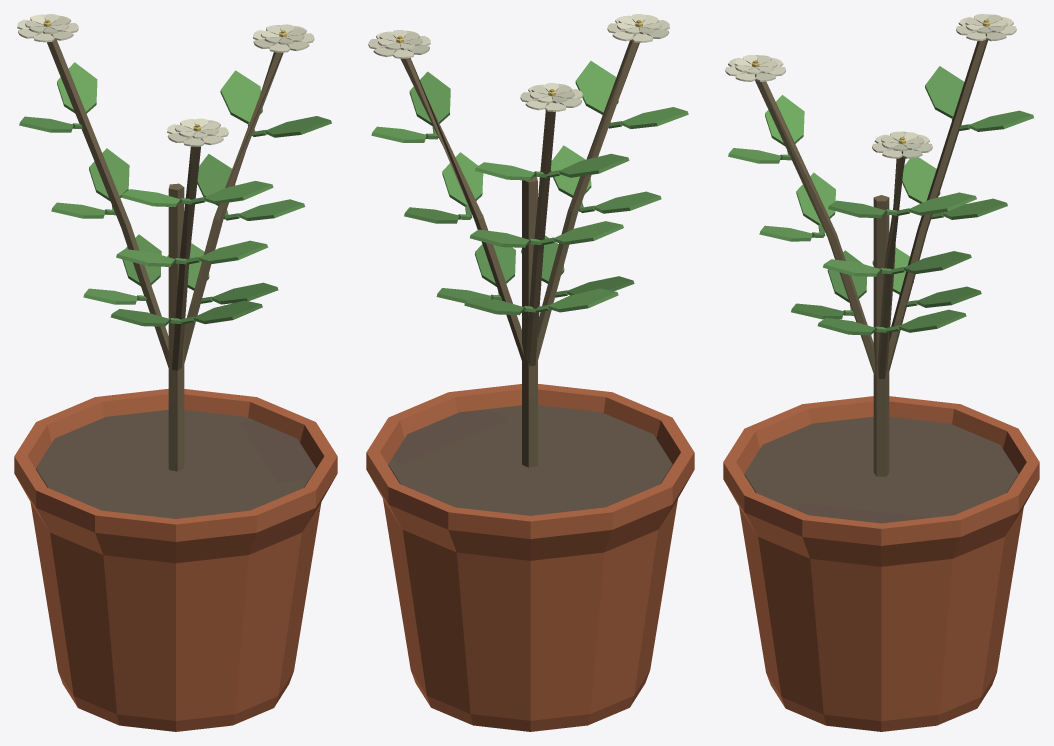
File: jasmine.glb
The picture shows the model from 3 angles, left to right: view 1: azimuth 30°, elevation 25°; view 2: azimuth 150°, elevation 25°; view 3: azimuth 270°, elevation 25°; orthographic projection. The views are drawn at different scales.
Visible parts, largest first — view 1: jasmine/review-terra-vessel, jasmine/review-rooted-soil, jasmine/petiole-001, jasmine/stem-031, jasmine/stem-002, jasmine/stem-060, jasmine/leaf-014, jasmine/leaf-041, jasmine/leaf-037, jasmine/leaf-010, jasmine/leaf-068, jasmine/leaf-072 (+11 smaller); view 2: jasmine/review-terra-vessel, jasmine/review-rooted-soil, jasmine/petiole-001, jasmine/stem-060, jasmine/stem-002, jasmine/stem-031, jasmine/leaf-072, jasmine/leaf-012, jasmine/leaf-008, jasmine/leaf-004, jasmine/leaf-068, jasmine/leaf-039 (+10 smaller); view 3: jasmine/review-terra-vessel, jasmine/review-rooted-soil, jasmine/petiole-001, jasmine/stem-031, jasmine/stem-060, jasmine/stem-002, jasmine/leaf-043, jasmine/leaf-039, jasmine/leaf-070, jasmine/leaf-066, jasmine/leaf-010, jasmine/leaf-006 (+11 smaller).
Part boxes in pixels (x1,y1,x2,y2): jasmine/review-terra-vessel: [14, 388, 337, 731]; jasmine/review-rooted-soil: [36, 410, 315, 518]; jasmine/petiole-001: [168, 183, 184, 471]; jasmine/stem-031: [47, 35, 168, 367]; jasmine/stem-002: [184, 52, 283, 363]; jasmine/stem-060: [172, 146, 200, 370]; jasmine/leaf-014: [220, 70, 262, 123]; jasmine/leaf-041: [57, 62, 97, 113]; jasmine/leaf-037: [89, 148, 129, 201]; jasmine/leaf-010: [197, 154, 235, 205]; jasmine/leaf-068: [198, 240, 268, 264]; jasmine/leaf-072: [204, 181, 273, 204]; jasmine/review-terra-vessel: [366, 384, 694, 731]; jasmine/review-rooted-soil: [388, 405, 672, 515]; jasmine/petiole-001: [522, 176, 537, 467]; jasmine/stem-060: [538, 35, 639, 359]; jasmine/stem-002: [400, 58, 524, 360]; jasmine/stem-031: [525, 104, 555, 366]; jasmine/leaf-072: [575, 61, 618, 114]; jasmine/leaf-012: [409, 71, 450, 125]; jasmine/leaf-008: [442, 152, 483, 206]; jasmine/leaf-004: [474, 244, 515, 286]; jasmine/leaf-068: [550, 145, 591, 197]; jasmine/leaf-039: [553, 221, 623, 244]; jasmine/review-terra-vessel: [723, 396, 1039, 731]; jasmine/review-rooted-soil: [744, 416, 1018, 523]; jasmine/petiole-001: [873, 195, 889, 476]; jasmine/stem-031: [888, 33, 988, 370]; jasmine/stem-060: [755, 74, 875, 374]; jasmine/stem-002: [877, 151, 905, 378]; jasmine/leaf-043: [925, 66, 964, 118]; jasmine/leaf-039: [902, 157, 940, 203]; jasmine/leaf-070: [765, 95, 804, 146]; jasmine/leaf-066: [796, 172, 835, 225]; jasmine/leaf-010: [904, 251, 971, 274]; jasmine/leaf-006: [898, 309, 966, 332].
Size of the model in its own units: 0.2737 by 0.592 by 0.27.
6 materials, 6 textured.
